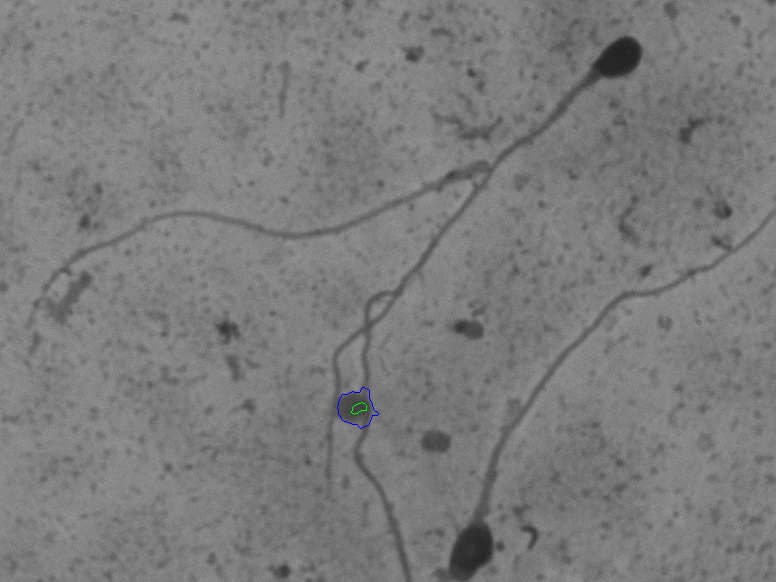Abnormal: (315, 18, 666, 504)
